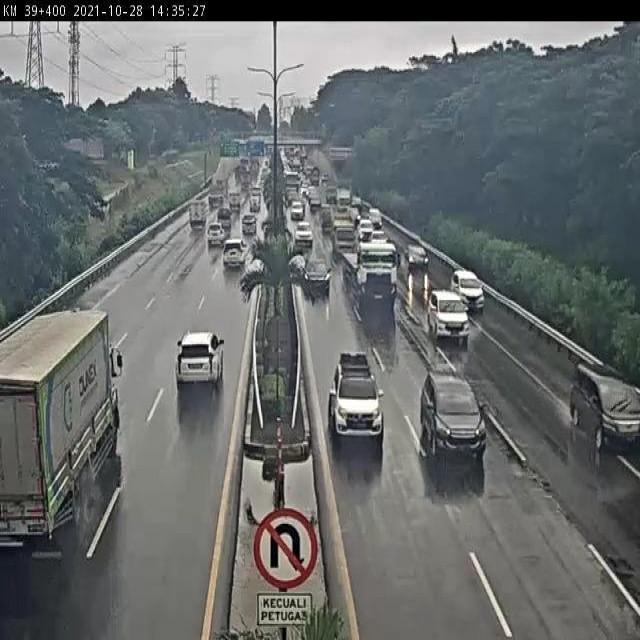big truck: (2, 310, 122, 554), (342, 242, 402, 322)
car: (559, 349, 640, 462), (409, 362, 494, 462), (325, 348, 391, 449), (169, 316, 229, 393), (425, 291, 474, 349), (449, 264, 491, 316), (299, 260, 338, 301), (401, 237, 443, 272), (293, 211, 323, 256), (222, 235, 252, 276), (205, 218, 229, 254), (238, 211, 264, 241)
small truck: (185, 192, 212, 231), (332, 223, 359, 260)
